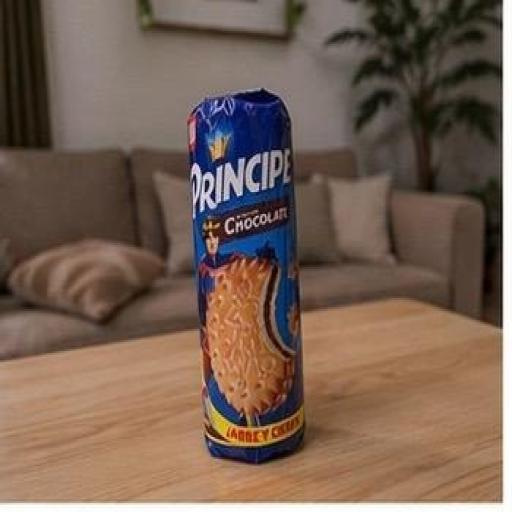prince: (157, 37, 409, 483)
